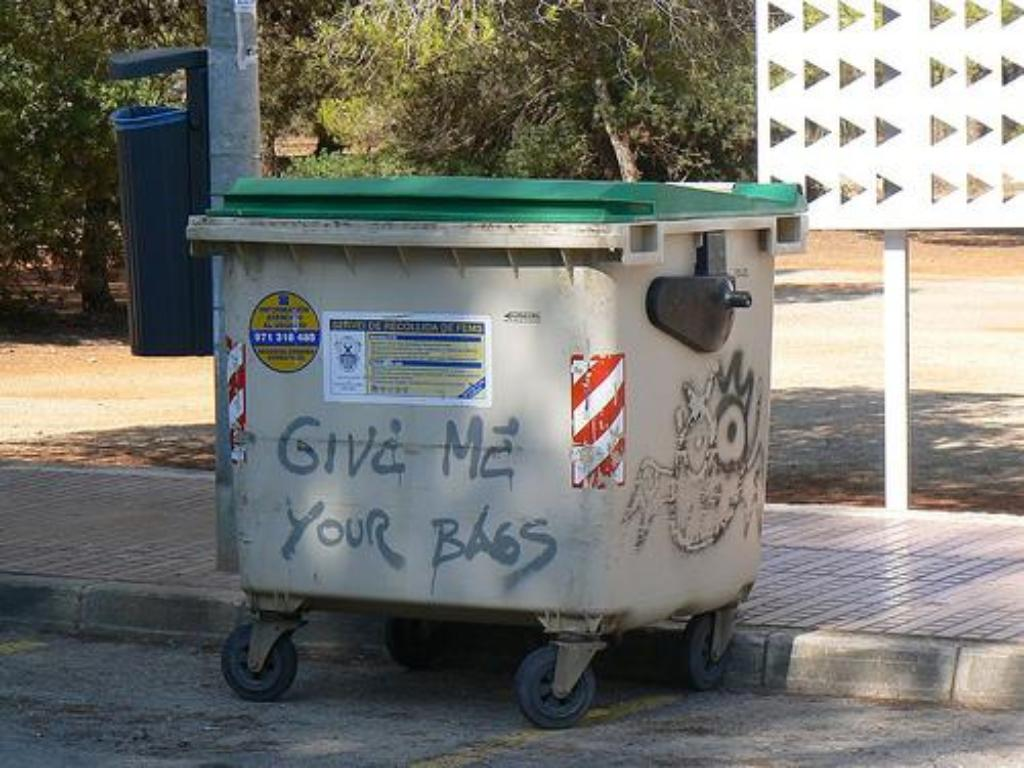dustbin: (199, 158, 813, 715)
